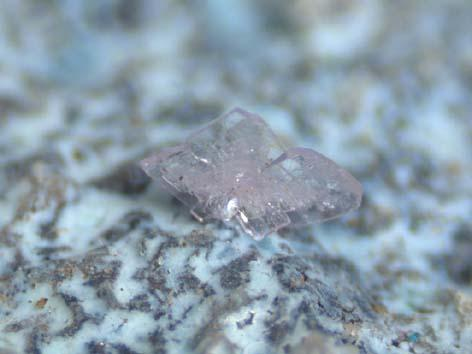gypsum: (141, 108, 362, 240)
